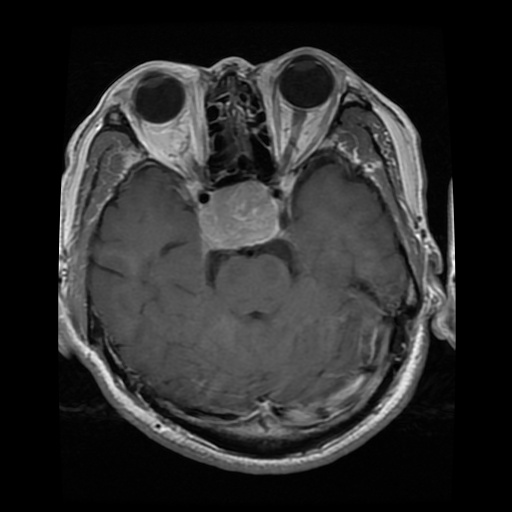pituitary: (201, 185, 279, 248)
